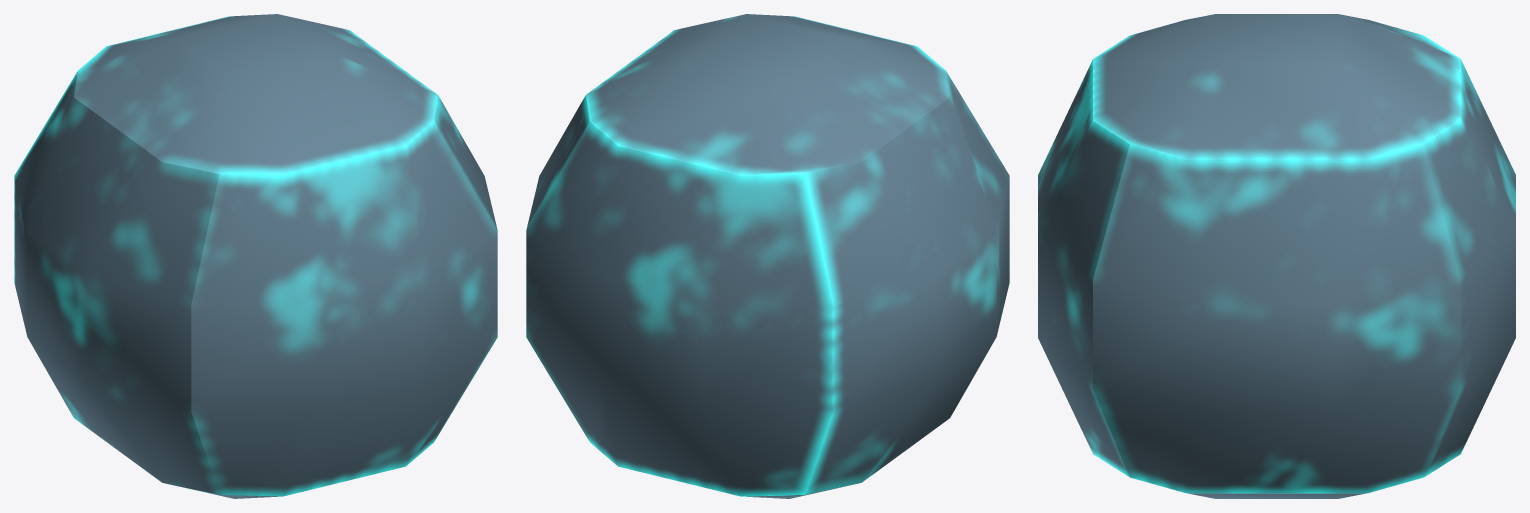
File: M_O_Orb.fbx
The picture shows the model from 3 angles, left to right: view 1: azimuth 30°, elevation 25°; view 2: azimuth 150°, elevation 25°; view 3: azimuth 270°, elevation 25°; orthographic projection. The views are drawn at different scales.
Parts seen in each view (by area): view 1: M_O_Orb; view 2: M_O_Orb; view 3: M_O_Orb.
Boxes of the visible parts, <box> form: M_O_Orb: <box>14,14,497,498</box>; M_O_Orb: <box>526,14,1009,498</box>; M_O_Orb: <box>1038,14,1515,498</box>.
Size of the model in its own units: 6.5 by 6.5 by 6.5.
Materials: 1 (1 with a texture image).
